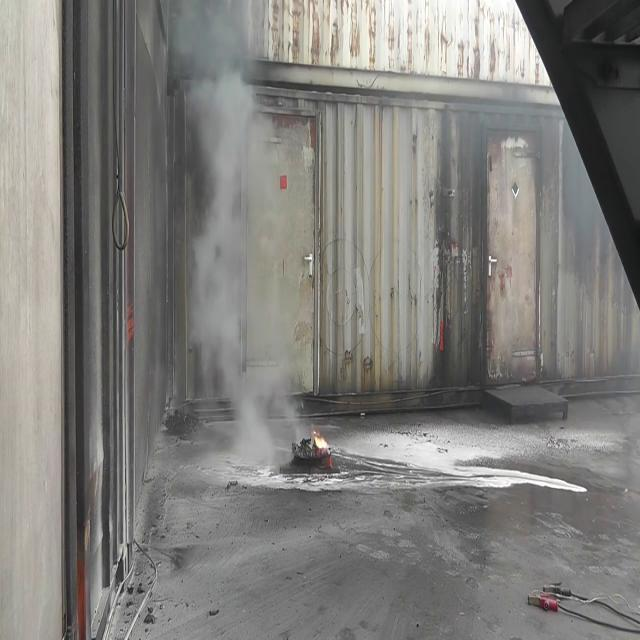Fire: (310, 425, 332, 458)
Smoke: (150, 0, 312, 430), (166, 3, 300, 467)
